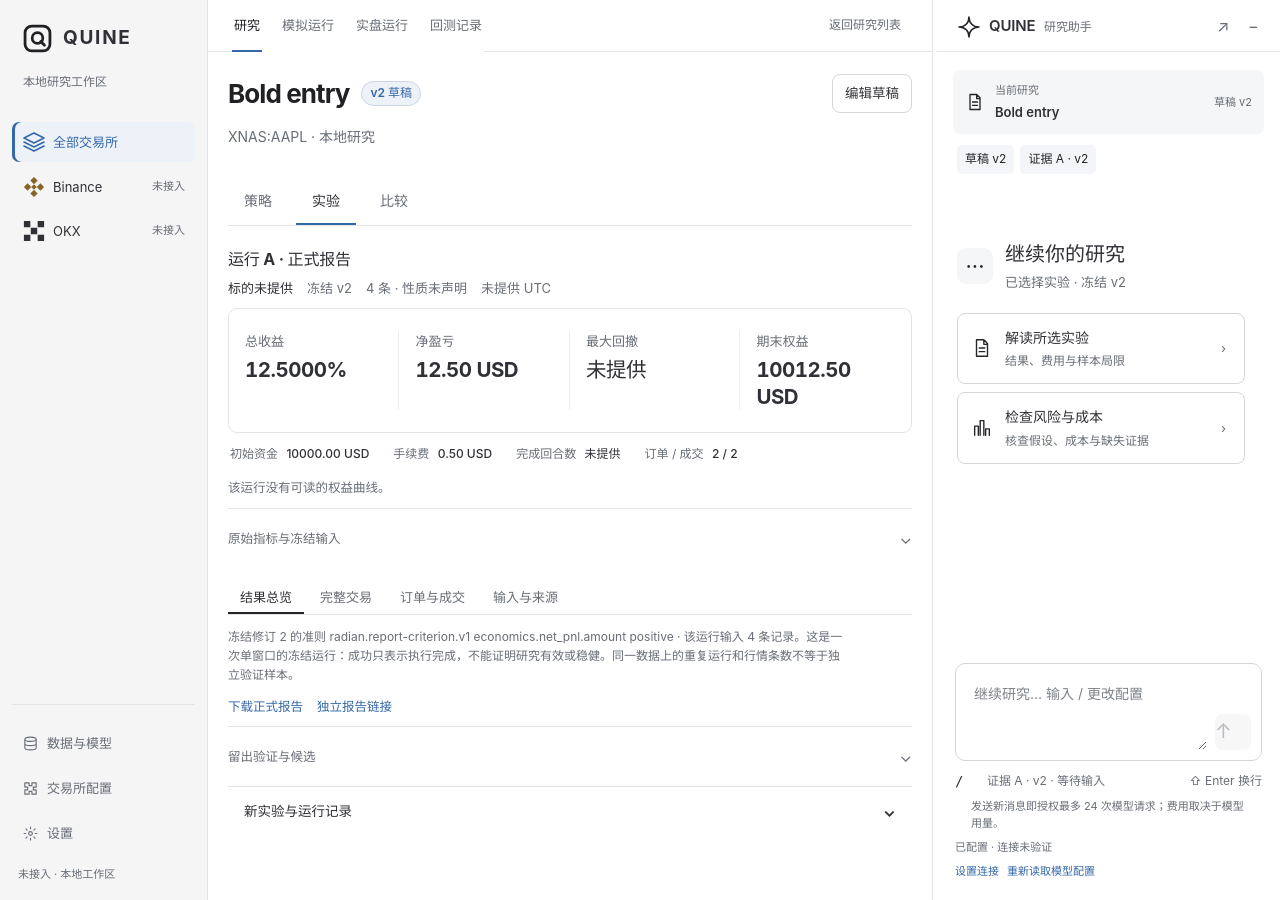
user strategy evidence comparison › shows one frozen run honestly, with no B and no A/B difference
Step 1. Click the tab "比较" → (394, 202), box left=364, top=179, right=424, bottom=225
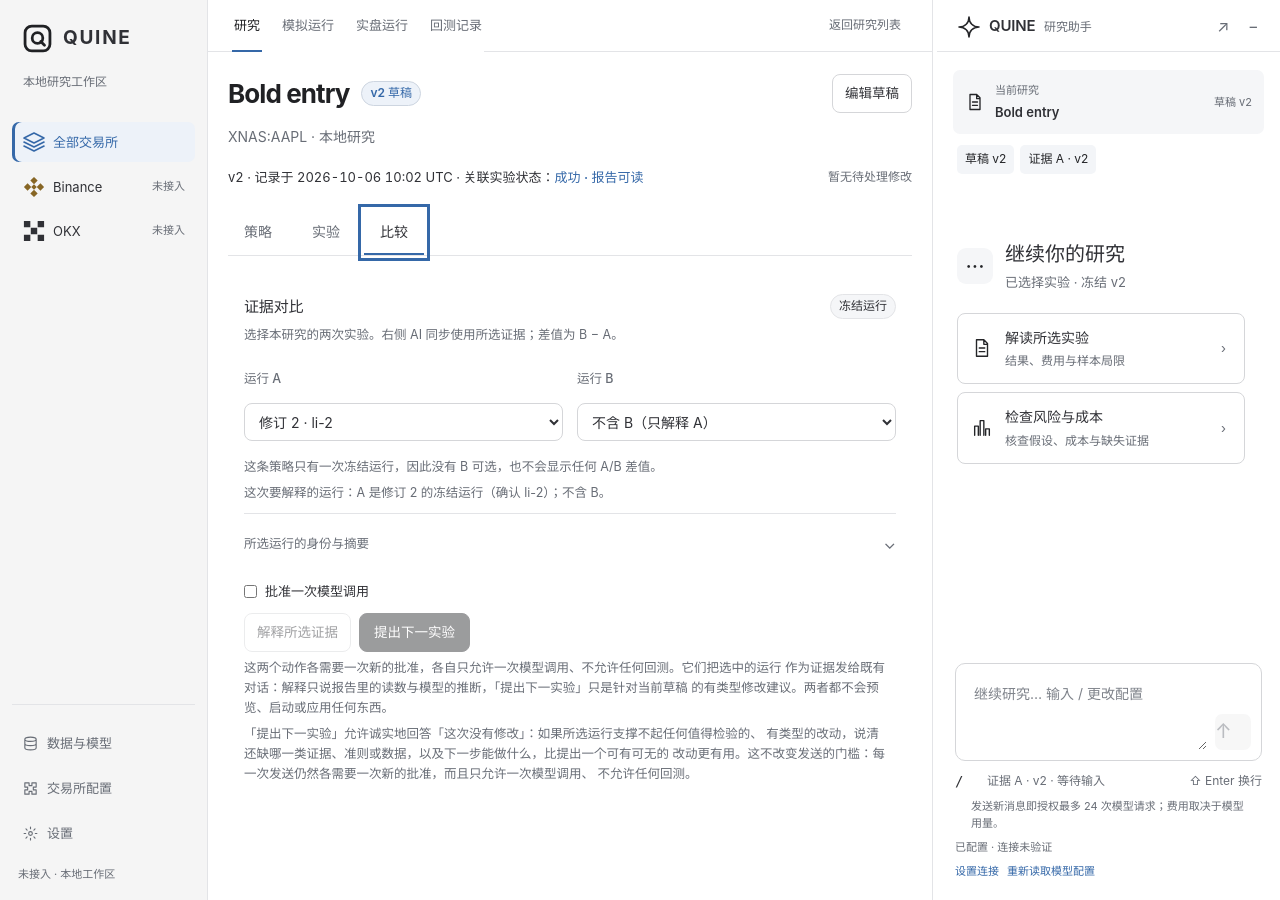
Check: the text "这条策略只有一次冻结运行，因此没有 B 可选，也不会显示任何 A/B 差值。" is shown, box left=244, top=459, right=663, bottom=474
